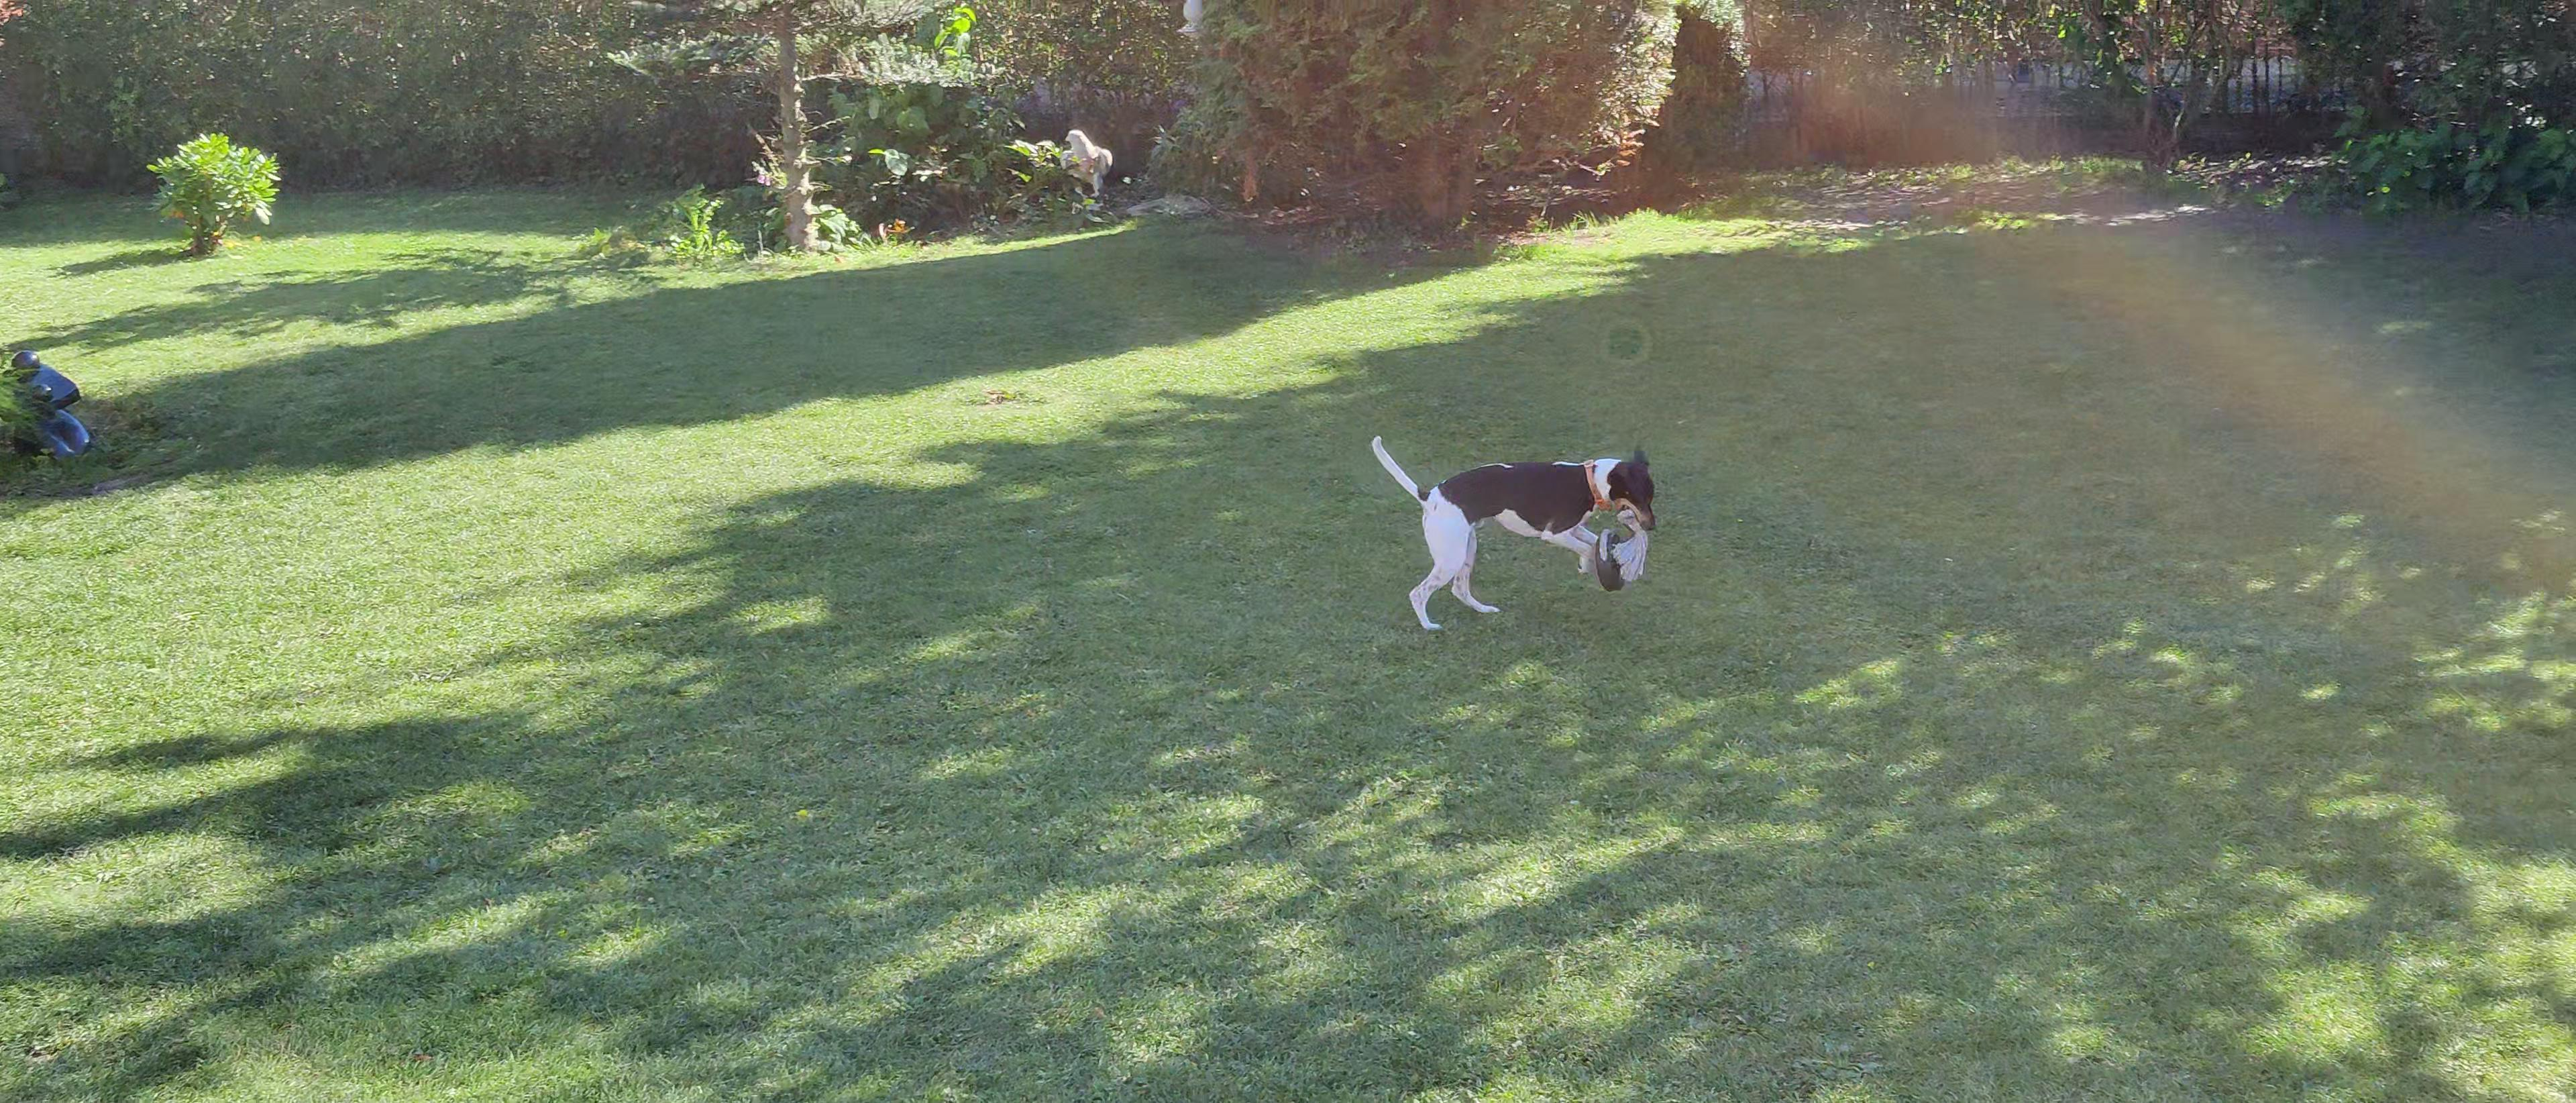Dog: (1362, 421, 1671, 638)
